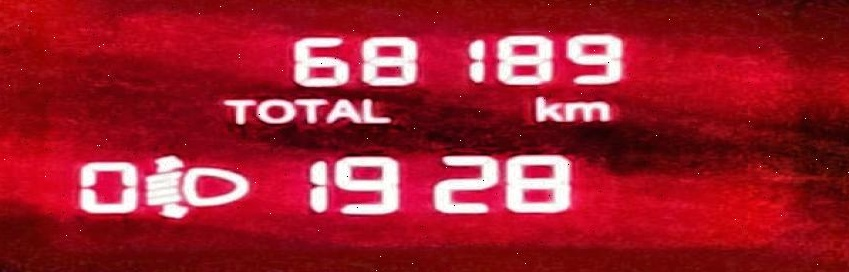0: (75, 157, 142, 216)
1: (301, 157, 329, 214), (463, 33, 489, 86)
2: (432, 152, 497, 214)
6: (288, 34, 351, 88)
8: (503, 151, 577, 214), (360, 32, 421, 89), (496, 32, 555, 85)
9: (331, 153, 405, 217), (564, 30, 627, 86)
X: (358, 96, 396, 123), (564, 99, 611, 120), (531, 93, 563, 122), (256, 97, 293, 122), (328, 97, 361, 124), (220, 97, 252, 124), (294, 96, 325, 123)
